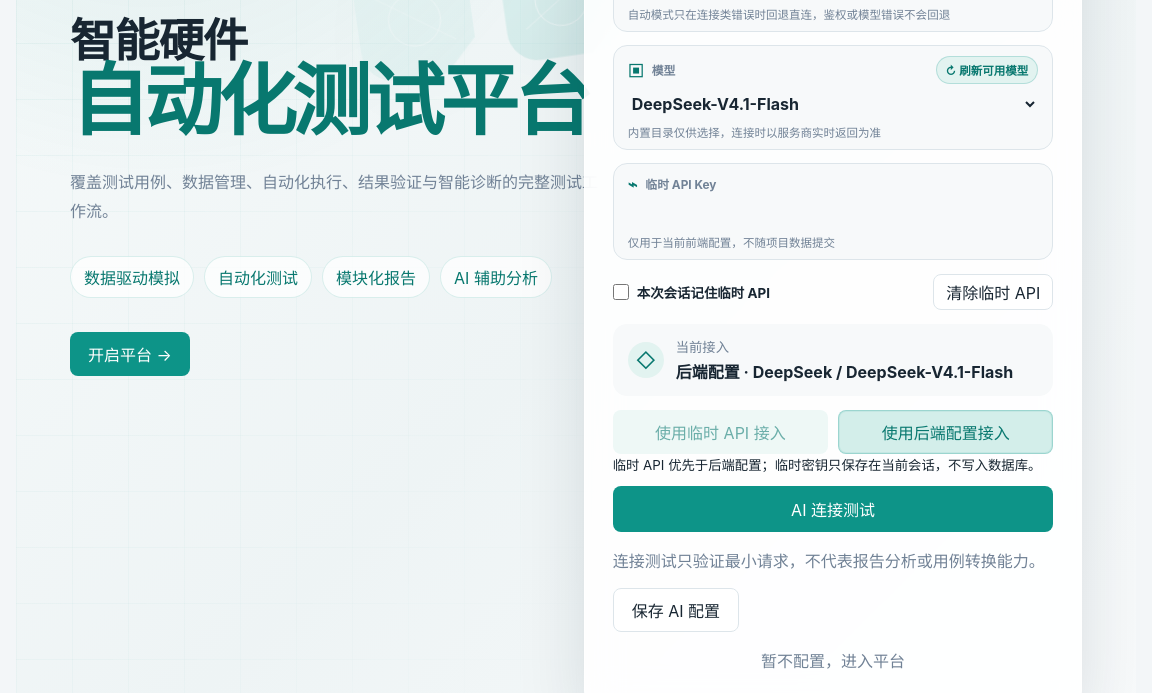
执行与结果页展示真实在线报告摘要、状态和下载入口
(page scrolled)
Step 1. Click the button "开启平台 →" → (130, 354), box [70,332,190,376]
(page scrolled)
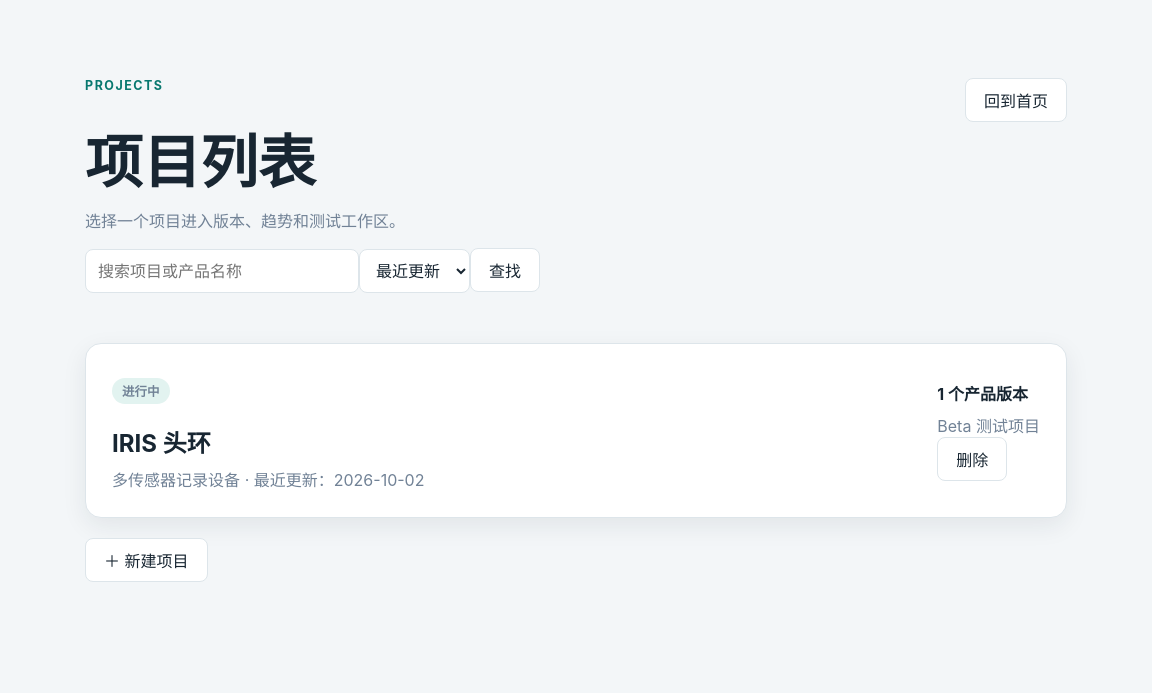
Step 2. Click the button "进行中 IRIS 头环 多传感器记录设备 · 最近更新：2026-10-02 1 个产品版本 Beta 测试项目 删除" → (576, 431), box [85,343,1067,518]
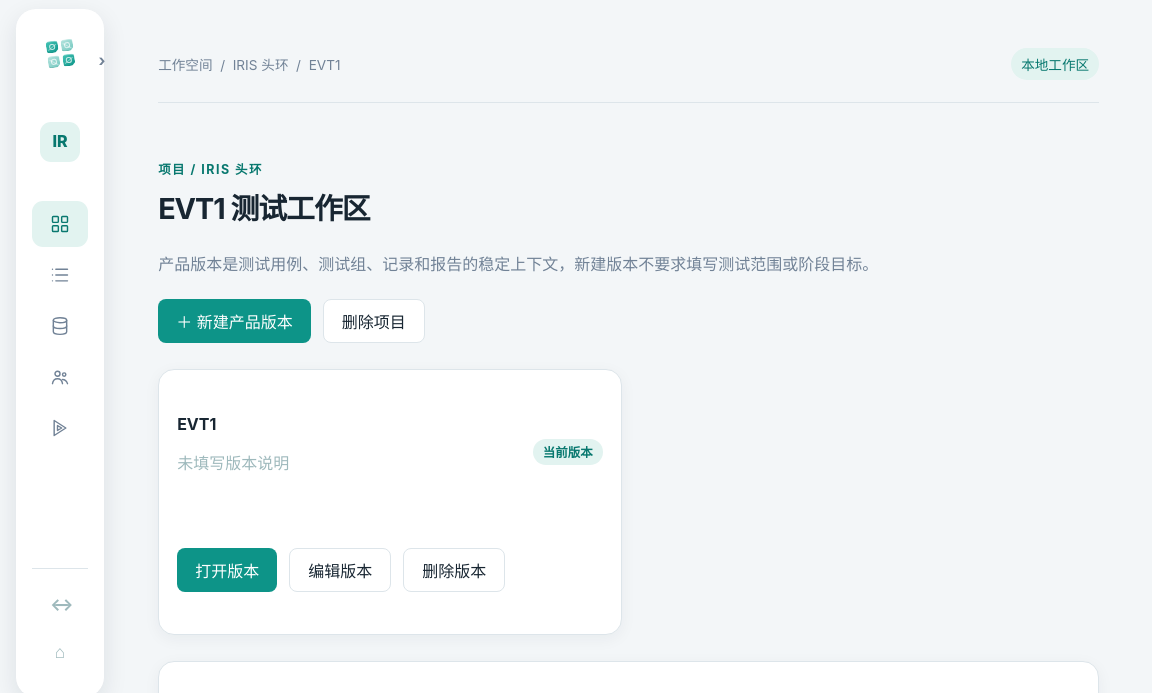
Step 3. Click the button named "执行与结果" → (60, 428), box [32,405,88,451]
(page scrolled)
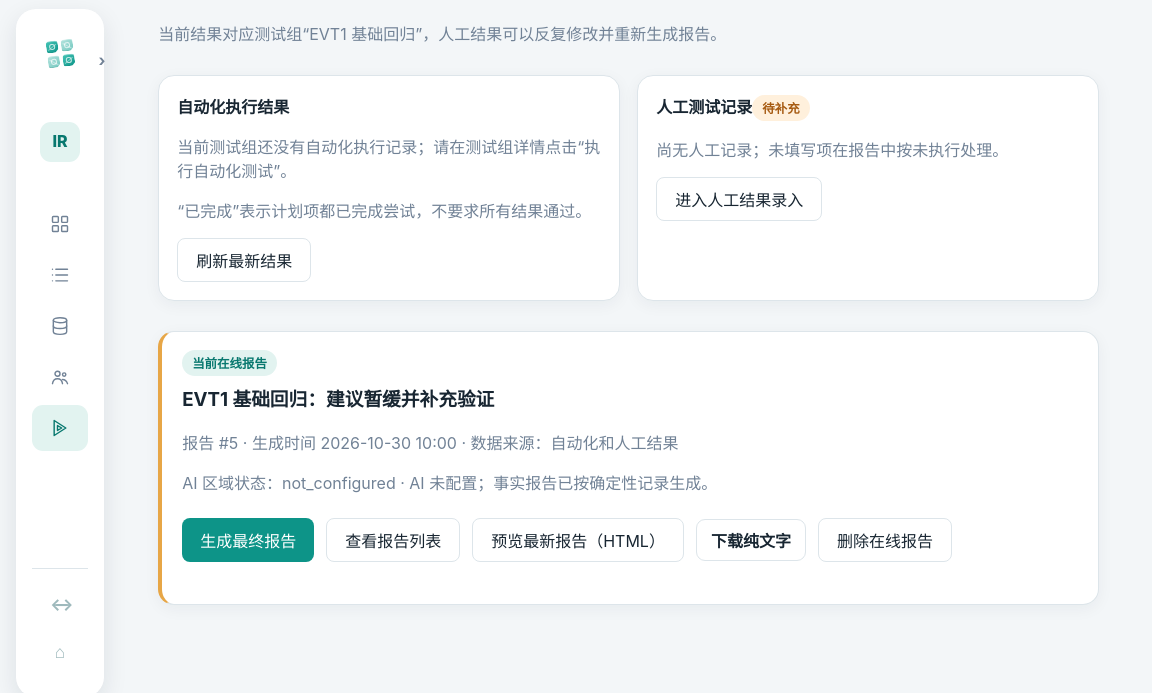
expect the text "报告 #5 · 生成时间 2026-10-30 10:00 · 数据来源：自动化和人工结果" is shown: met, box [182,433,679,453]
expect the text "当前在线报告" is shown: met, box [182,350,277,376]
expect the heading "EVT1 基础回归：建议暂缓并补充验证" is shown: met, box [182,388,494,411]
